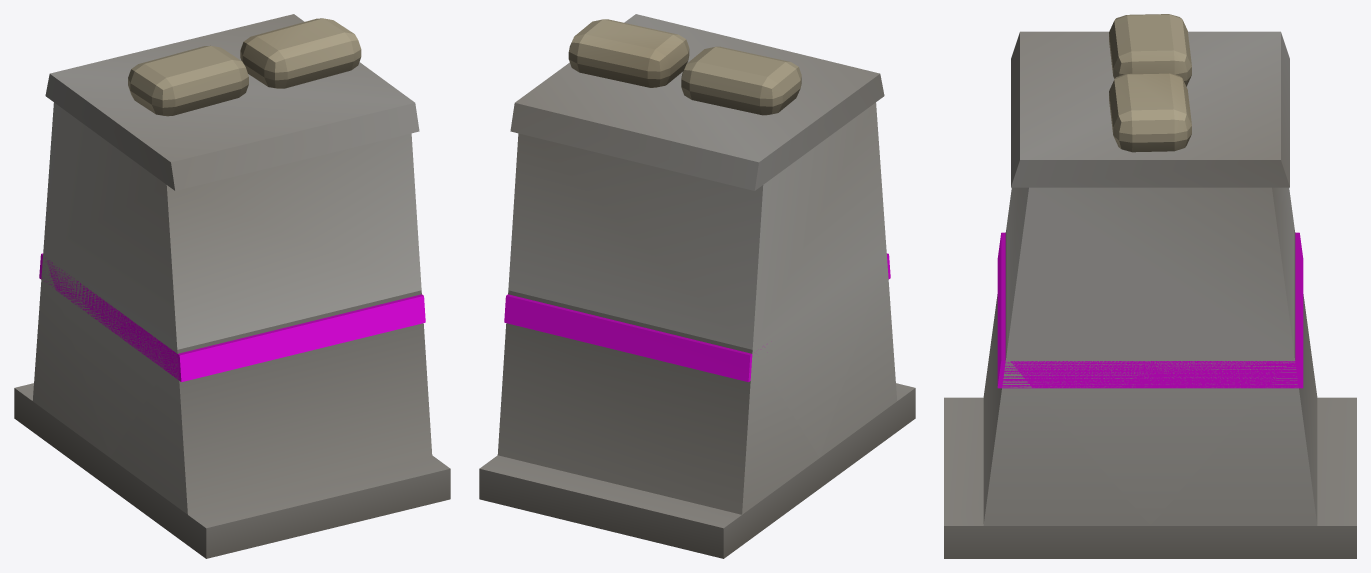
The model's file is wall_link.glb.
The picture shows the model from 3 angles, left to right: view 1: azimuth 30°, elevation 25°; view 2: azimuth 150°, elevation 25°; view 3: azimuth 270°, elevation 25°; orthographic projection. The views are drawn at different scales.
Visible parts, largest first — view 1: Body; view 2: Body; view 3: Body.
Part boxes in pixels (x1=…): Body: x1=14, y1=14, x2=450, y2=558; Body: x1=479, y1=14, x2=915, y2=558; Body: x1=944, y1=14, x2=1356, y2=558.
Bounding box in the file's own units: 1 × 1.6 × 1.36.
1 material, 1 textured.
